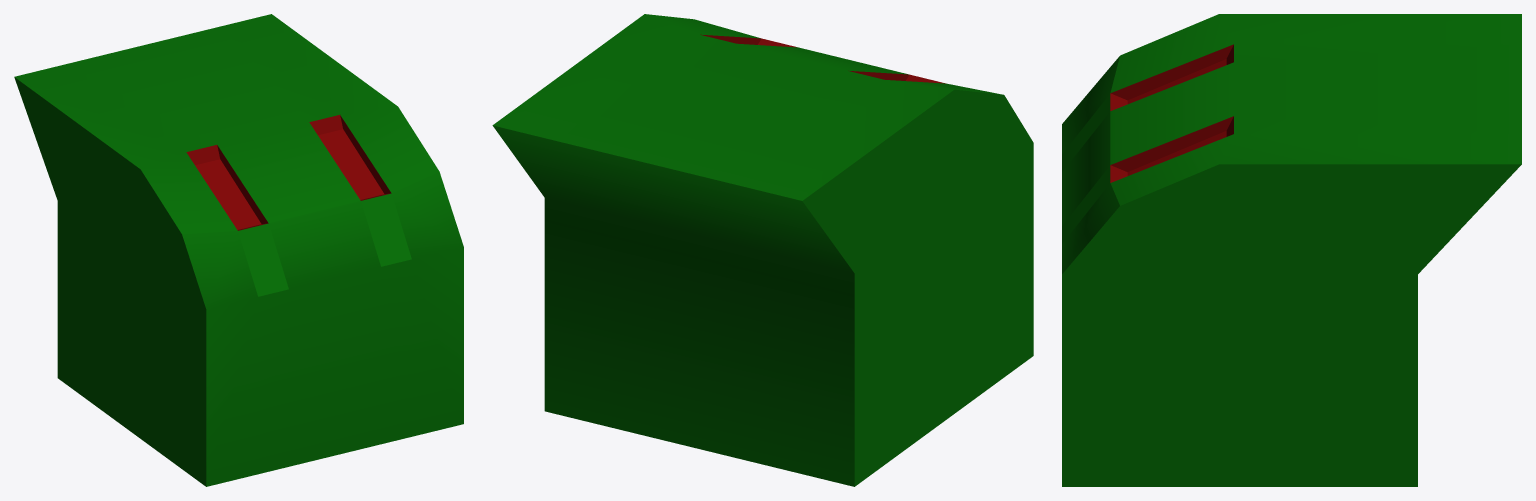
Rendered from TowerAntiAirTop.fbx.
3 renders of one model, left to right at view 1: azimuth 30°, elevation 25°; view 2: azimuth 150°, elevation 25°; view 3: azimuth 270°, elevation 25°, orthographic. The views are drawn at different scales.
Visible parts, largest first — view 1: TowerAntiAirTop; view 2: TowerAntiAirTop; view 3: TowerAntiAirTop.
Part boxes in pixels (<box>): TowerAntiAirTop: <box>14,14,463,486</box>; TowerAntiAirTop: <box>492,14,1033,486</box>; TowerAntiAirTop: <box>1062,14,1521,486</box>.
Bounding box in the file's own units: 0.4765 × 0.4765 × 0.6158.
